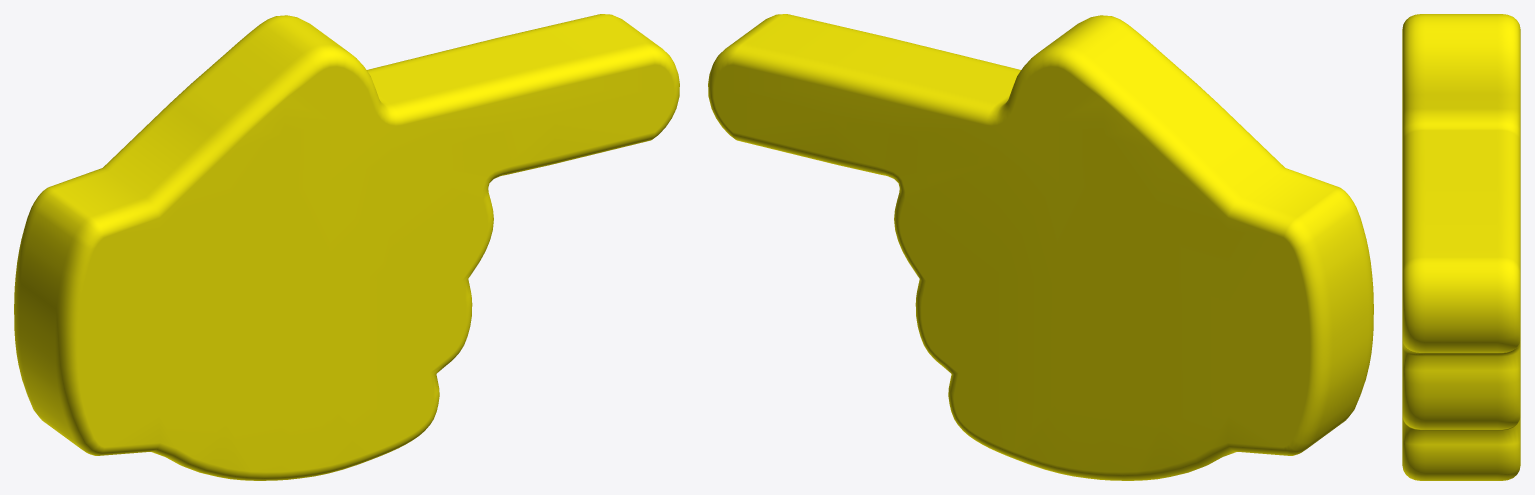
Rendered from hand.fbx.
The picture shows the model from 3 angles, left to right: view 1: azimuth 30°, elevation 25°; view 2: azimuth 150°, elevation 25°; view 3: azimuth 270°, elevation 25°; orthographic projection.
Visible parts, largest first — view 1: node_id30; view 2: node_id30; view 3: node_id30.
Part boxes in pixels (<box>): node_id30: <box>14,14,679,480</box>; node_id30: <box>708,14,1373,480</box>; node_id30: <box>1402,14,1520,480</box>.
Size of the model in its own units: 0.2536 by 0.1666 by 0.0413.
Materials: 1 (1 with a texture image).
